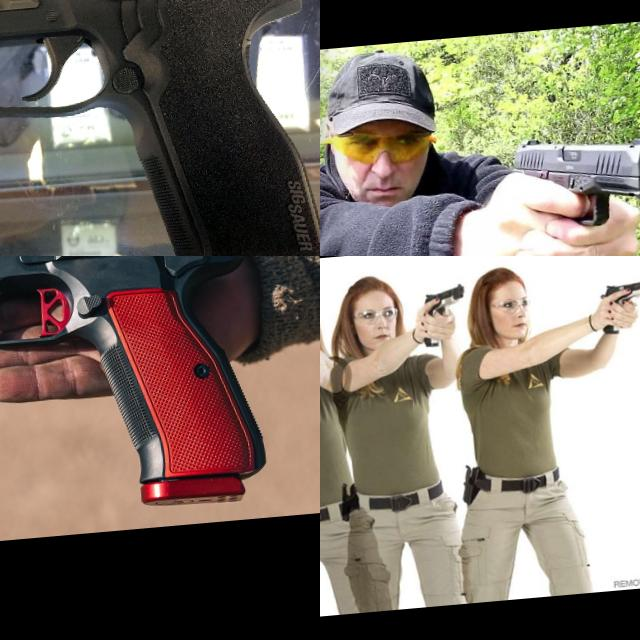handgun: (0, 0, 320, 256), (0, 256, 275, 542), (505, 124, 640, 235), (420, 279, 468, 319), (320, 317, 347, 388), (595, 272, 640, 310), (320, 435, 340, 460), (320, 310, 333, 348)
